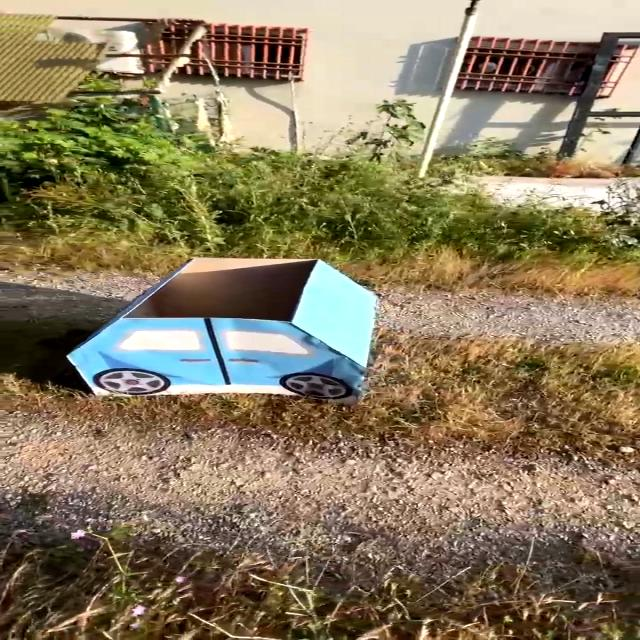blue_car: (10, 236, 428, 412)
